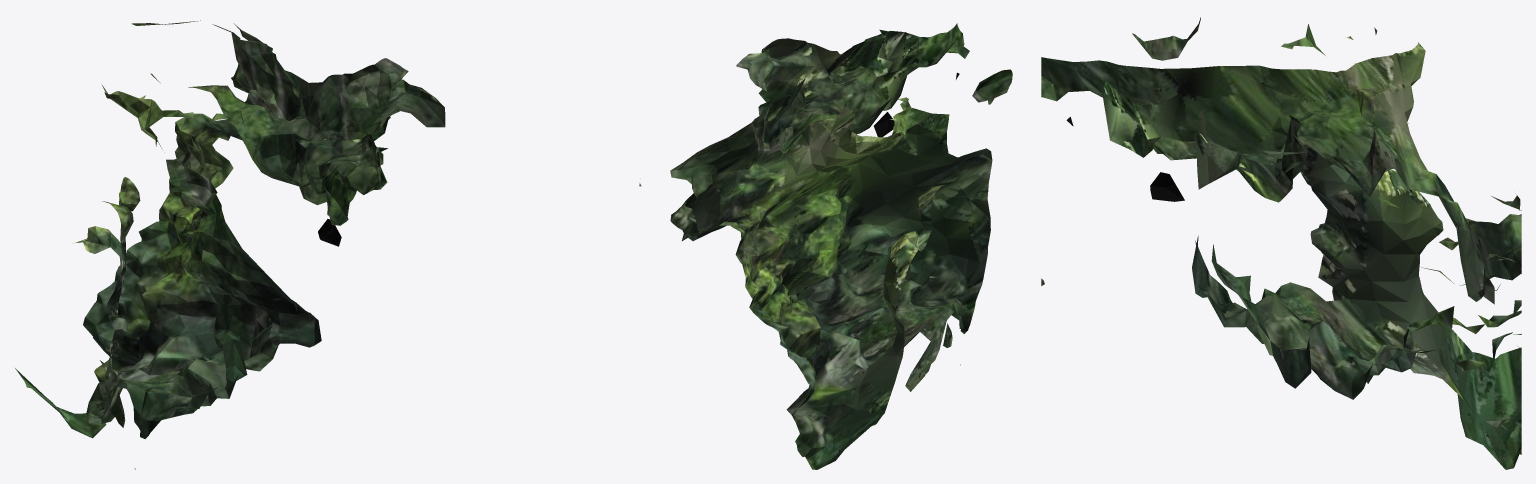
The picture shows the model from 3 angles, left to right: view 1: azimuth 30°, elevation 25°; view 2: azimuth 150°, elevation 25°; view 3: azimuth 270°, elevation 25°; orthographic projection. The views are drawn at different scales.
Bounding box in the file's own units: 26.11 × 25.18 × 26.11.
Materials: 4 (4 with a texture image).
